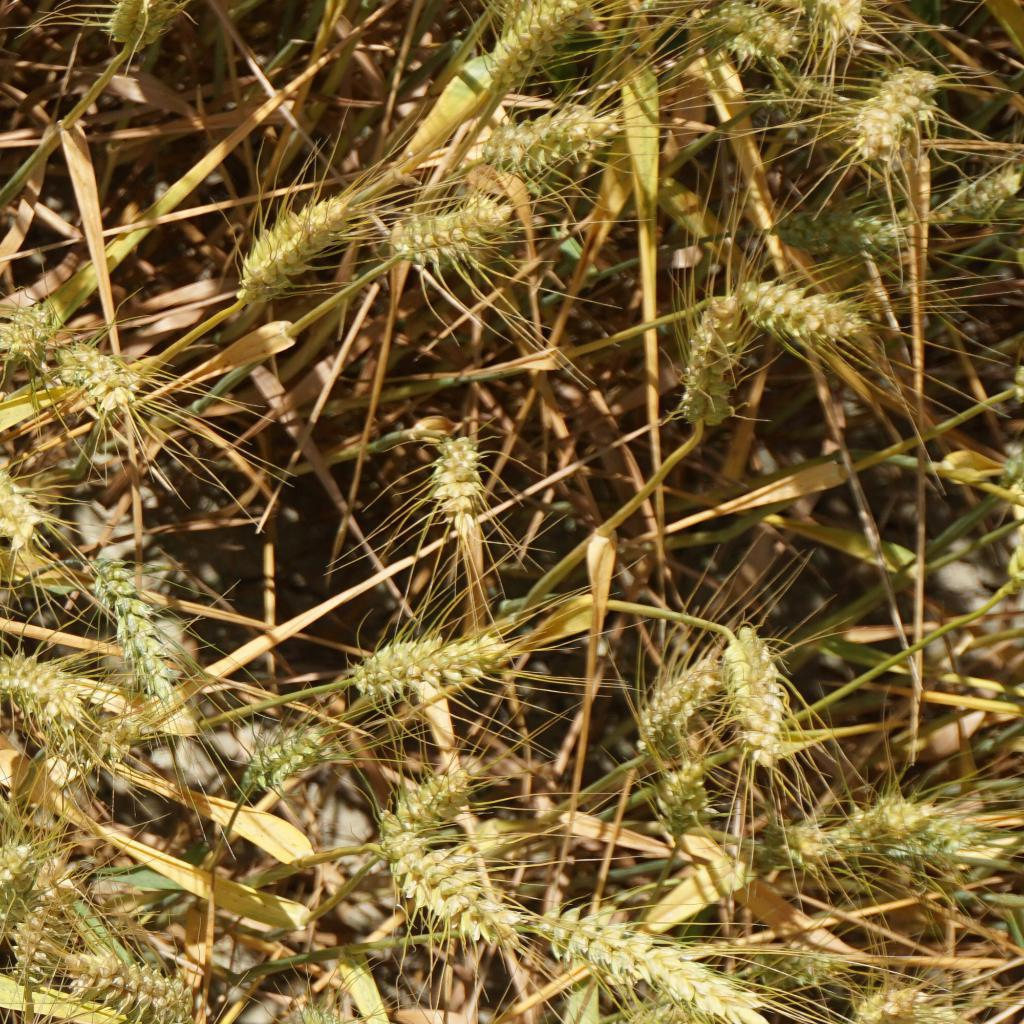0-0: (521, 894, 743, 1021), (229, 180, 352, 301), (92, 549, 178, 710), (379, 834, 507, 936), (837, 54, 939, 173), (477, 101, 623, 180), (770, 193, 924, 267), (343, 635, 510, 703), (376, 758, 482, 863), (737, 274, 870, 354), (629, 653, 720, 768), (708, 625, 790, 751), (674, 289, 744, 428), (55, 951, 190, 1022), (385, 196, 519, 266), (485, 3, 579, 92), (62, 701, 166, 780), (45, 331, 146, 409), (423, 421, 492, 535), (858, 785, 963, 858), (745, 805, 836, 886), (0, 648, 83, 733), (702, 2, 797, 67), (654, 748, 716, 847), (722, 77, 822, 136), (757, 935, 855, 994), (244, 719, 329, 786), (5, 896, 58, 990), (0, 304, 74, 367), (0, 460, 46, 555), (941, 163, 1015, 222), (848, 983, 941, 1024), (113, 0, 174, 59), (814, 0, 877, 56), (0, 830, 40, 909), (616, 992, 704, 1024), (282, 1007, 372, 1024)
